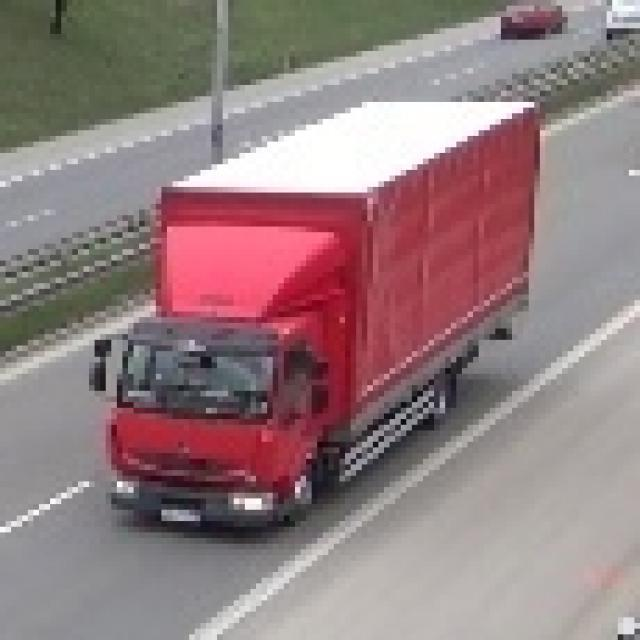truck: (89, 96, 540, 527)
